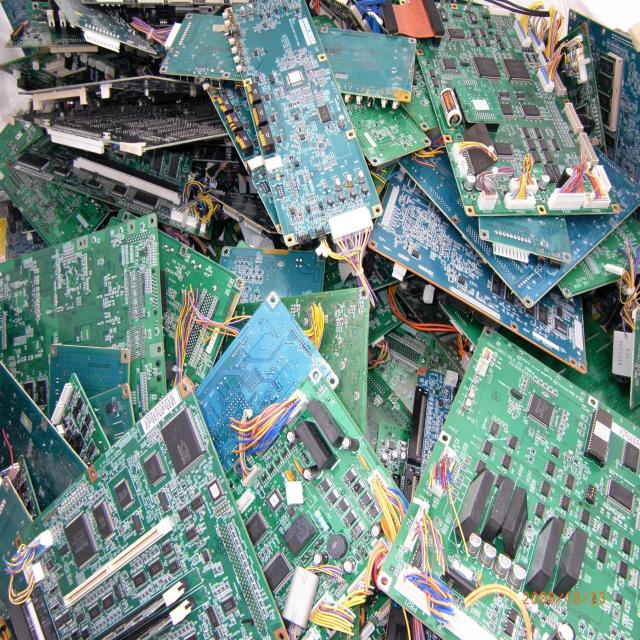Hazard: (0, 16, 640, 640)
